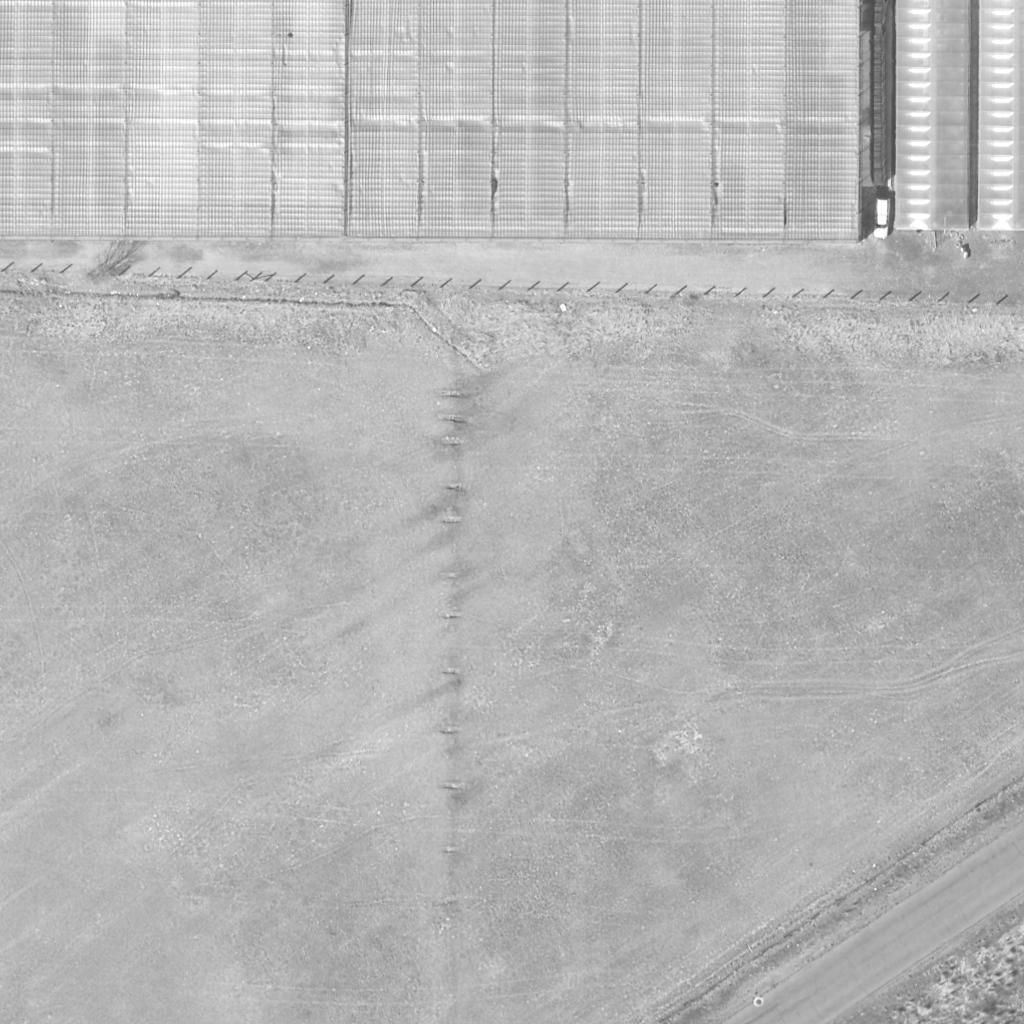vehicle: (871, 198, 891, 240)
